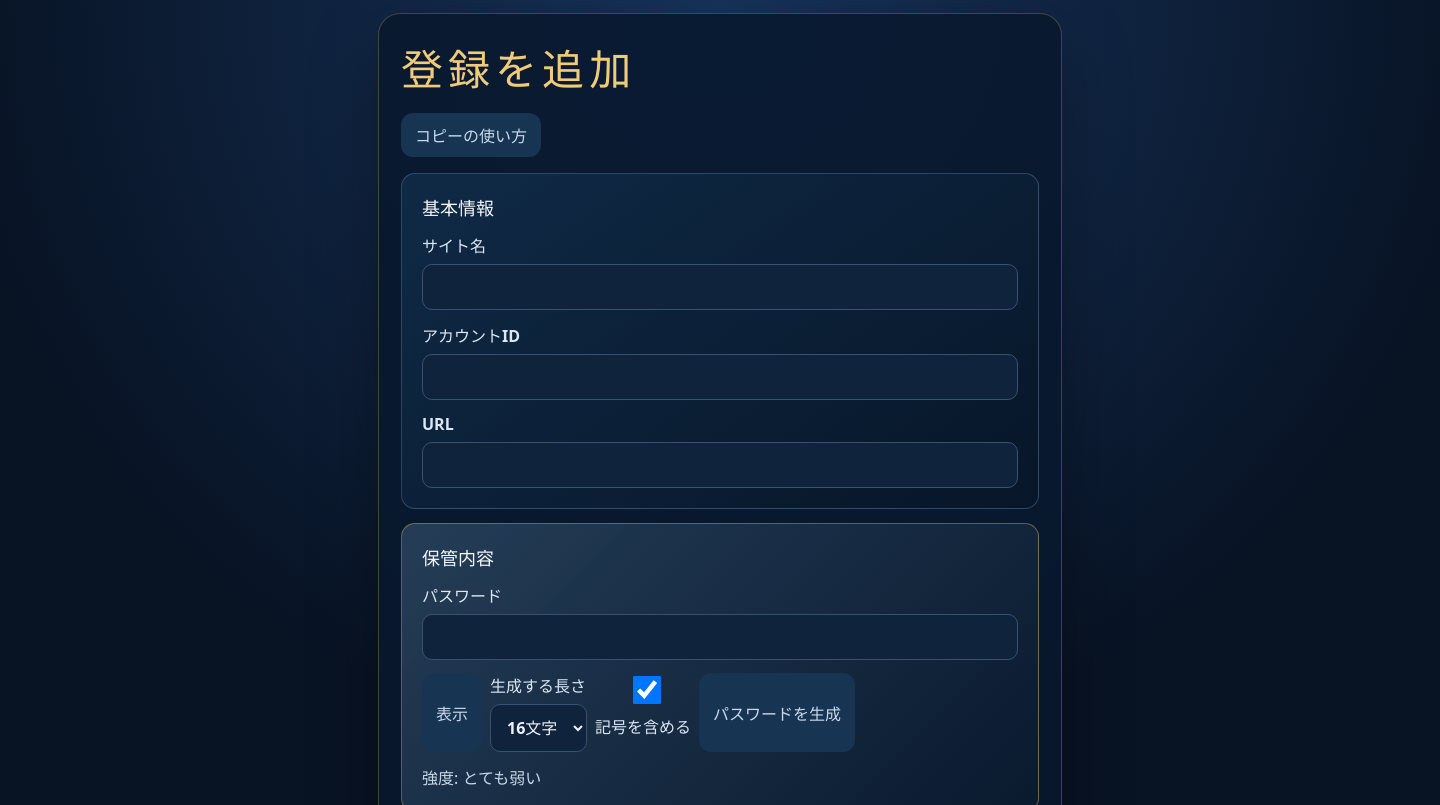
disables saving while a registration save is pending
Type "楽天市場" into the field labelled "サイト名".
click(720, 287); type("楽天市場")  # box [422,264,1018,310]
(page scrolled)
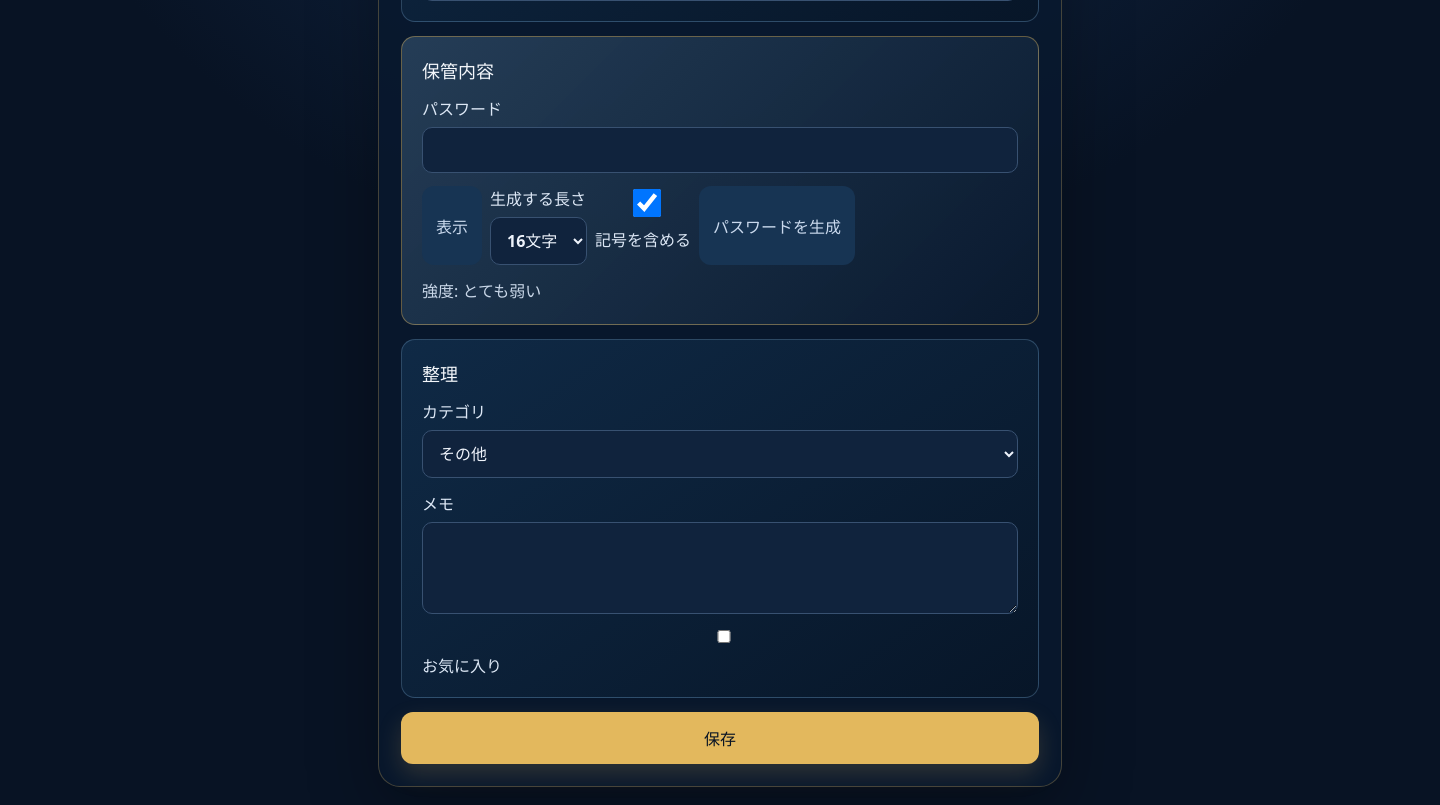
Click the button "保存".
click(720, 738)  # box [401,712,1039,764]
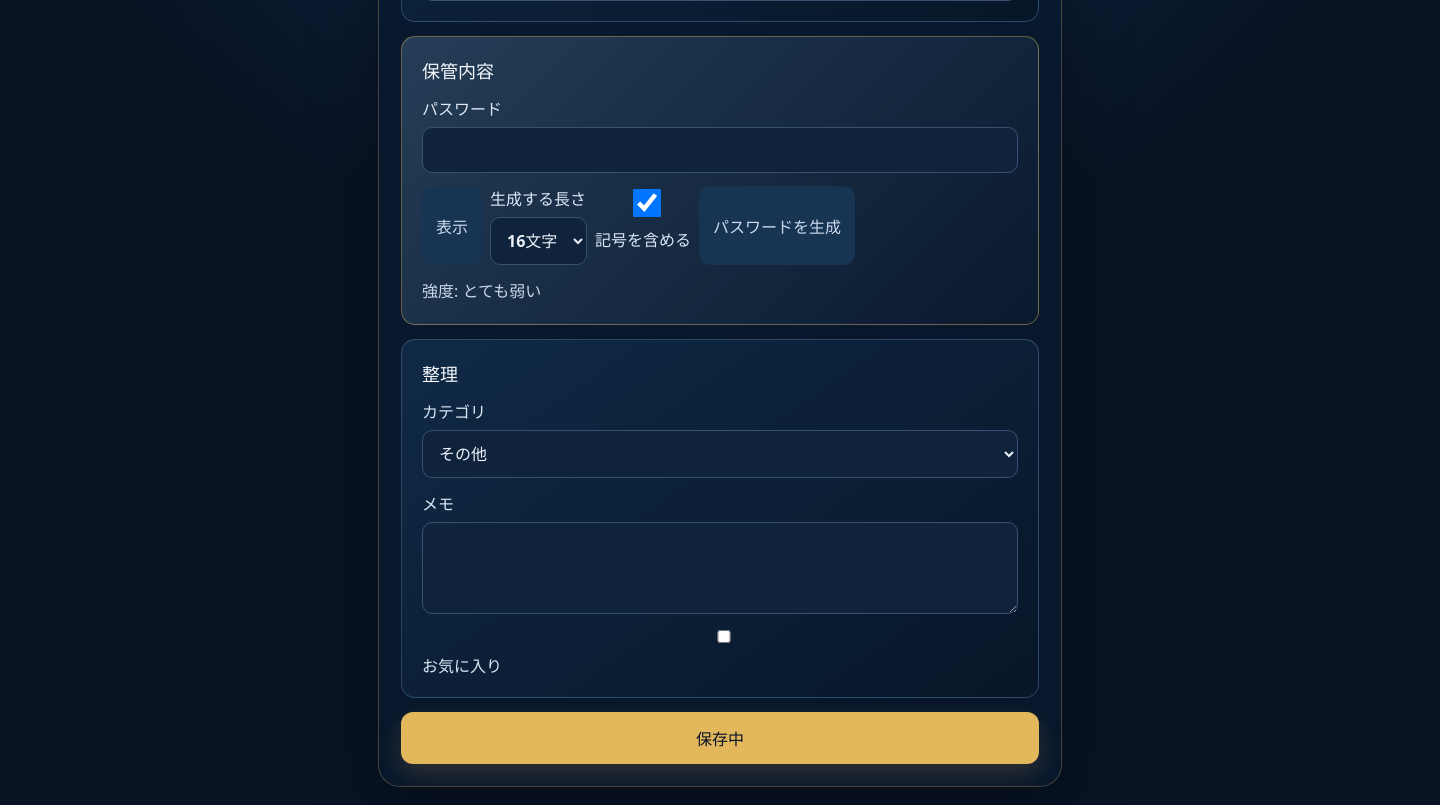
Check: the button "保存中" is disabled, box [401,712,1039,764]
